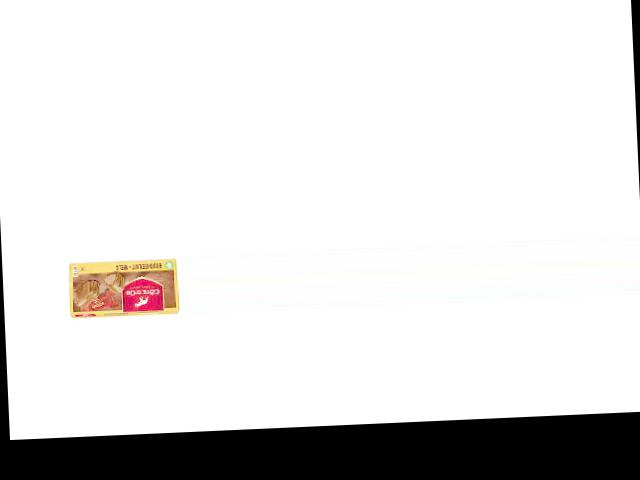chocolate: (65, 249, 179, 321)
